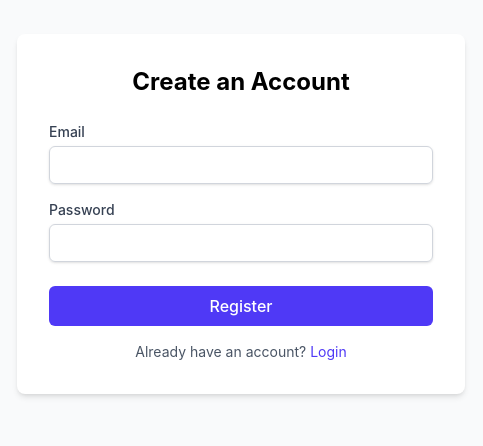
Scenario: RegisterPage › displays an error message on failed registration
The image size is (483, 446).
Step 1. Type "existing@example.com" into the field labelled "Email" → (241, 165), box [49,146,433,184]
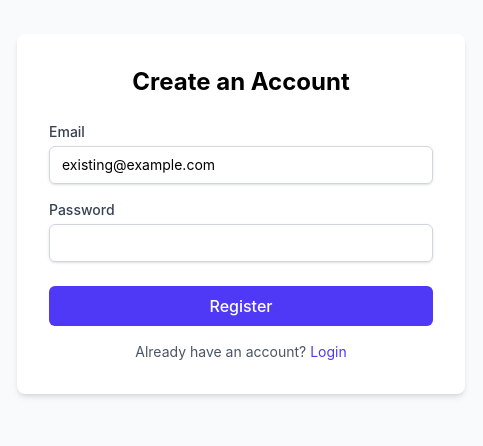
Step 2. Type "password123" into the password field labelled "Password" → (241, 243), box [49,224,433,262]
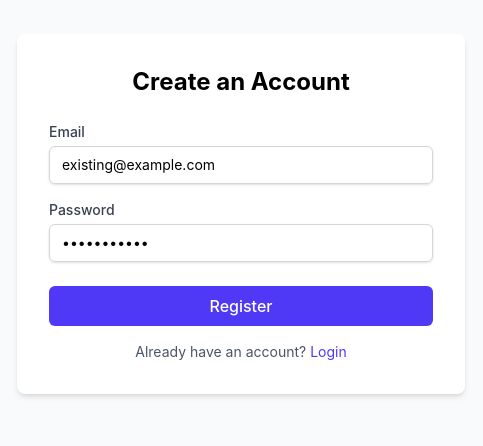
Step 3. Click the button "Register" → (241, 306), box [49,286,433,326]
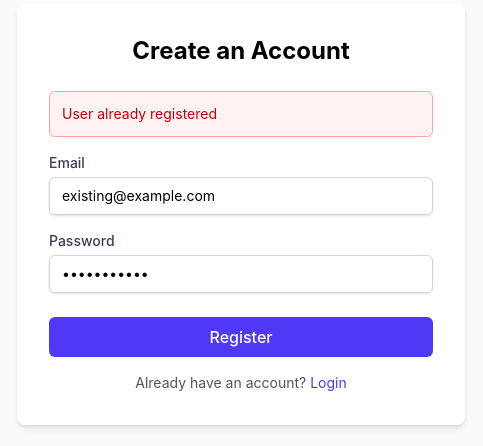
Now the text "User already registered" is shown, box [49,91,433,137]
